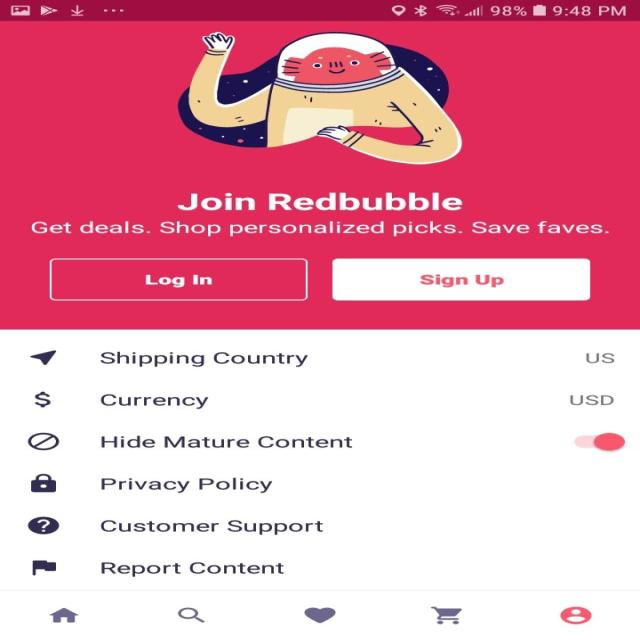Icon: (429, 605, 462, 624), (559, 606, 591, 624), (27, 516, 59, 534), (304, 607, 336, 623), (30, 473, 56, 492), (48, 607, 78, 622), (29, 349, 57, 365), (178, 606, 205, 622), (34, 391, 50, 407)
Image: (176, 31, 462, 165), (27, 432, 59, 450), (32, 560, 57, 575)
Text: (31, 220, 609, 237), (176, 192, 462, 211), (100, 434, 352, 448), (100, 519, 322, 534), (100, 351, 308, 367), (101, 477, 273, 493), (100, 562, 284, 576), (100, 393, 209, 408), (568, 395, 614, 405), (586, 353, 614, 363)
TextButton: (49, 258, 308, 300), (332, 258, 590, 300)
